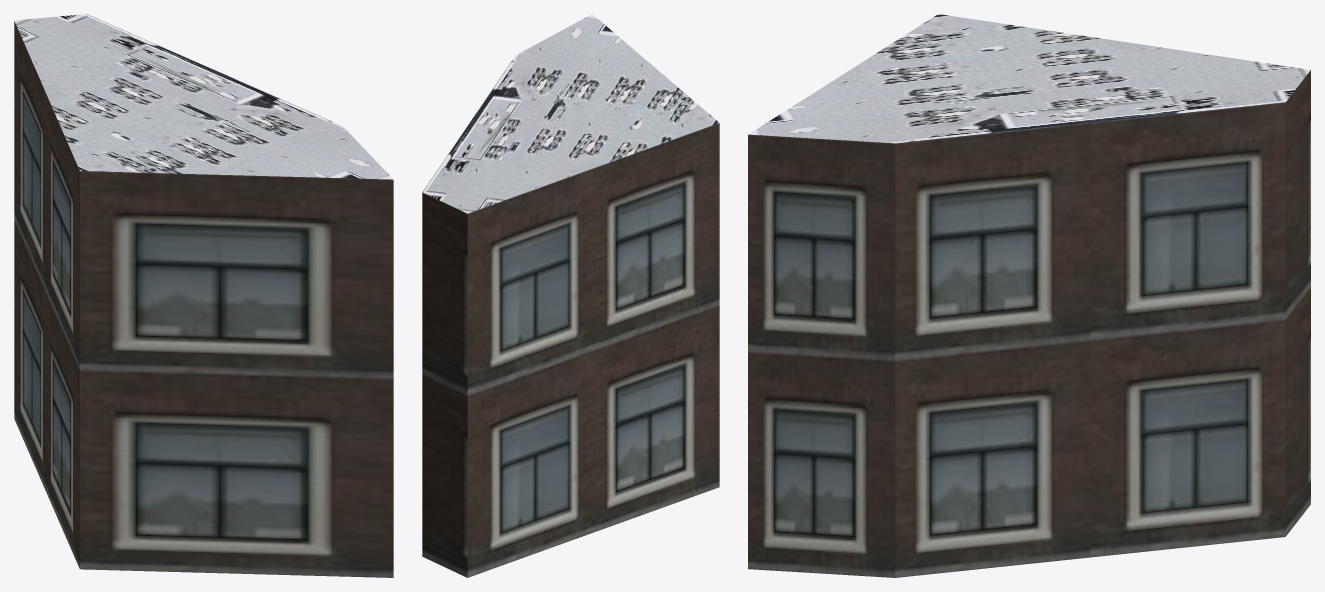
The model's file is ResTex__4646.fbx.
3 views of the same model, side by side, from view 1: azimuth 30°, elevation 25°; view 2: azimuth 150°, elevation 25°; view 3: azimuth 270°, elevation 25° (orthographic). The views are drawn at different scales.
Visible parts, largest first — view 1: CityEngineMaterial_16_m, CityEngineMaterial_15_m; view 2: CityEngineMaterial_16_m, CityEngineMaterial_15_m; view 3: CityEngineMaterial_16_m, CityEngineMaterial_15_m.
Part boxes in pixels (x1,y1,x2,y2): CityEngineMaterial_16_m: (14, 21, 393, 577); CityEngineMaterial_15_m: (14, 14, 393, 179); CityEngineMaterial_16_m: (422, 123, 719, 577); CityEngineMaterial_15_m: (422, 14, 719, 213); CityEngineMaterial_16_m: (748, 70, 1310, 577); CityEngineMaterial_15_m: (748, 14, 1310, 143).
Size of the model in its own units: 3.83 by 6 by 7.04.
Materials: 2 (2 with a texture image).
